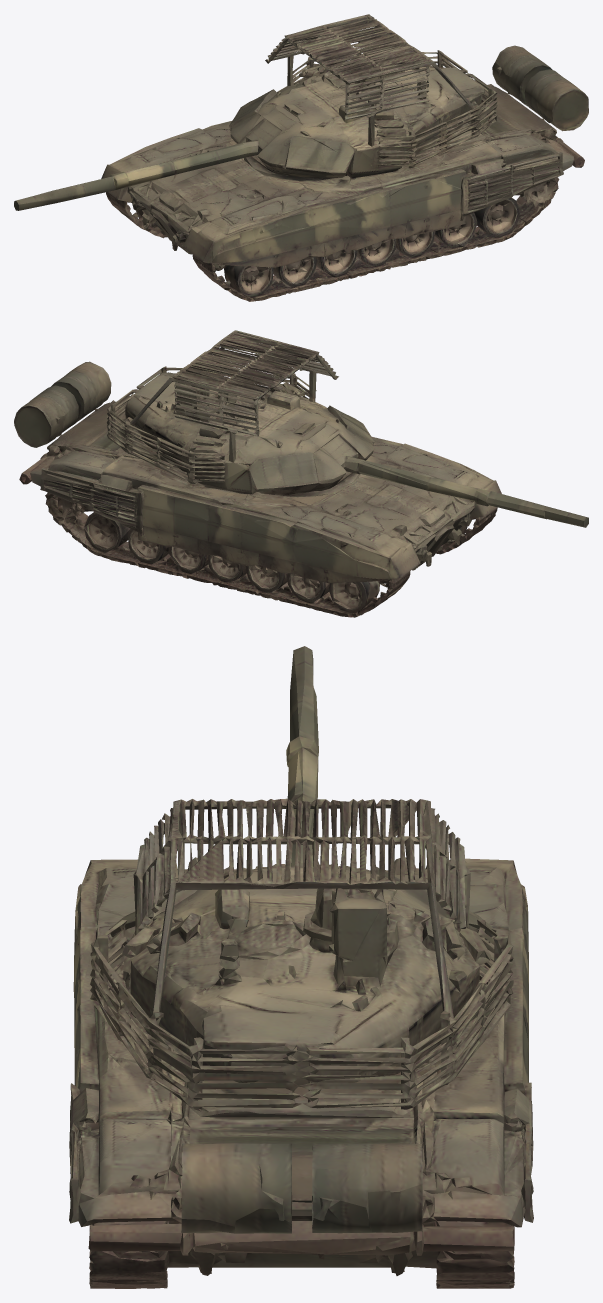
File: tank.glb
3 renders of one model, top to bottom at view 1: azimuth 30°, elevation 25°; view 2: azimuth 150°, elevation 25°; view 3: azimuth 270°, elevation 25°, orthographic. The views are drawn at different scales.
Bounding box in the file's own units: 1.9 × 0.595 × 0.7029.
Materials: 1 (1 with a texture image).
